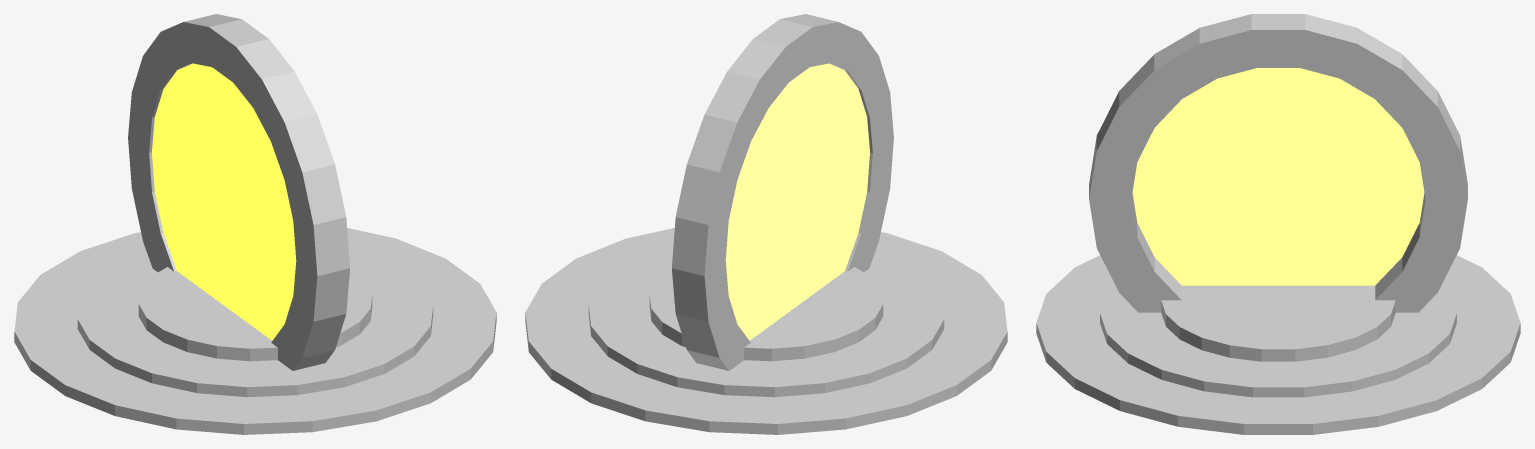
File: flying island portal.fbx
3 views of the same model, side by side, from view 1: azimuth 30°, elevation 25°; view 2: azimuth 150°, elevation 25°; view 3: azimuth 270°, elevation 25° (orthographic).
Visible parts, largest first — view 1: Portal.Step.002, Portal, Portal glow, Portal.Step.001, Portal.Step; view 2: Portal.Step.002, Portal, Portal glow, Portal.Step.001, Portal.Step; view 3: Portal glow, Portal, Portal.Step.002, Portal.Step.001, Portal.Step.
Boxes of the visible parts, x1,y1,x2,y2 form: Portal.Step.002: [14, 228, 496, 434]; Portal: [128, 14, 350, 370]; Portal glow: [152, 63, 296, 340]; Portal.Step.001: [77, 248, 433, 397]; Portal.Step: [138, 267, 372, 361]; Portal.Step.002: [525, 228, 1007, 434]; Portal: [671, 14, 893, 370]; Portal glow: [725, 63, 869, 340]; Portal.Step.001: [588, 248, 944, 397]; Portal.Step: [649, 267, 883, 361]; Portal glow: [1132, 68, 1424, 285]; Portal: [1089, 14, 1467, 312]; Portal.Step.002: [1036, 255, 1520, 434]; Portal.Step.001: [1100, 284, 1456, 397]; Portal.Step: [1161, 285, 1395, 361].
Bounding box in the file's own units: 413 × 323 × 418.
